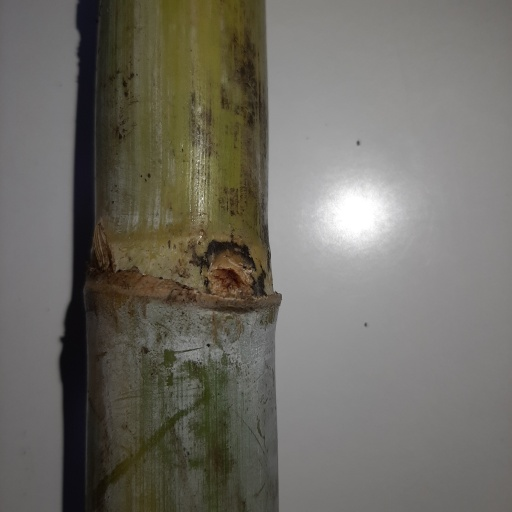Damage_Bud: (207, 249, 256, 297)
